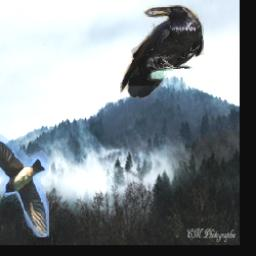Crow: (120, 6, 204, 99)
Swallow: (0, 133, 50, 238)
